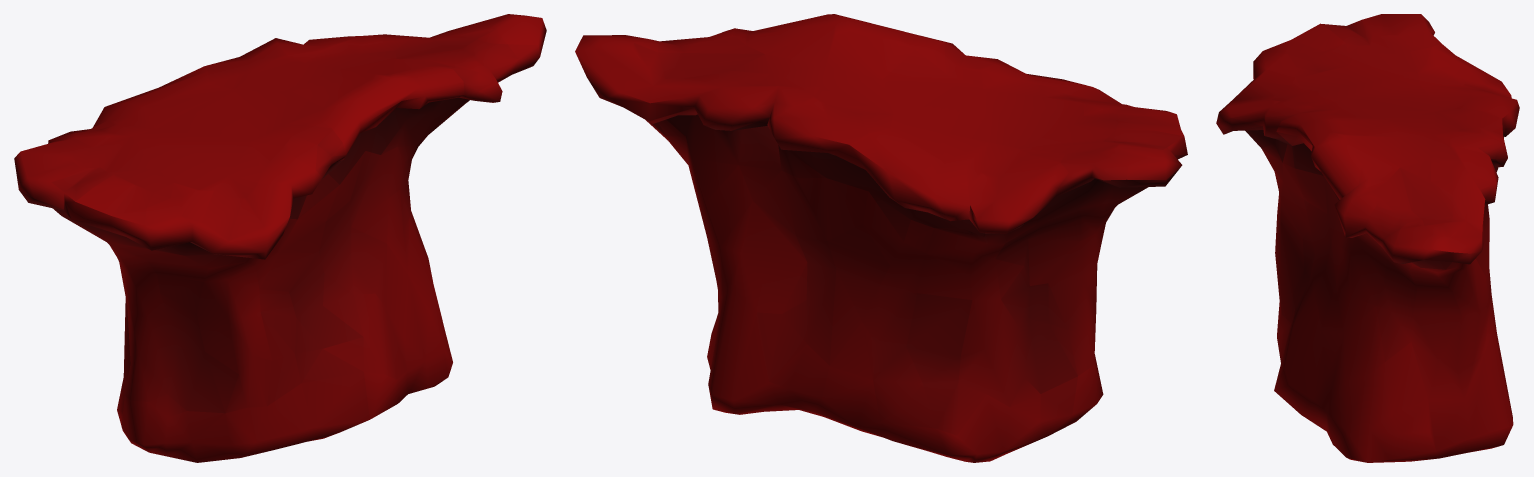
Rendered from env_siderock_medium02_lod2.fbx.
3 renders of one model, left to right at view 1: azimuth 30°, elevation 25°; view 2: azimuth 150°, elevation 25°; view 3: azimuth 270°, elevation 25°, orthographic. The views are drawn at different scales.
Parts seen in each view (by area): view 1: env_siderock_medium02_lod2; view 2: env_siderock_medium02_lod2; view 3: env_siderock_medium02_lod2.
Boxes of the visible parts, x1=… form: env_siderock_medium02_lod2: x1=14, y1=14, x2=546, y2=462; env_siderock_medium02_lod2: x1=575, y1=14, x2=1187, y2=462; env_siderock_medium02_lod2: x1=1216, y1=14, x2=1519, y2=462.
Size of the model in its own units: 127 by 75.94 by 66.17.
